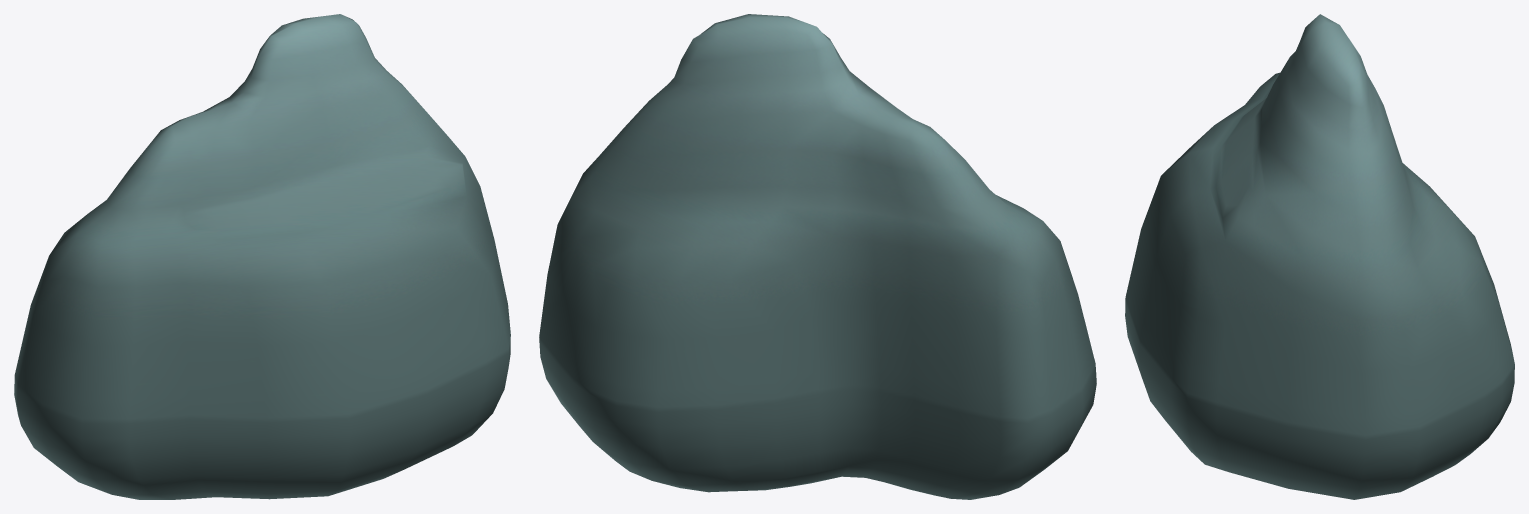
The model's file is ROCK01.fbx.
The picture shows the model from 3 angles, left to right: view 1: azimuth 30°, elevation 25°; view 2: azimuth 150°, elevation 25°; view 3: azimuth 270°, elevation 25°; orthographic projection. The views are drawn at different scales.
Parts seen in each view (by area): view 1: ROCK01; view 2: ROCK01; view 3: ROCK01.
Part boxes in pixels (x1,y1,x2,y2): ROCK01: (14, 14, 510, 499); ROCK01: (539, 14, 1096, 499); ROCK01: (1125, 14, 1514, 499).
Size of the model in its own units: 9.22 by 7.78 by 6.58.
